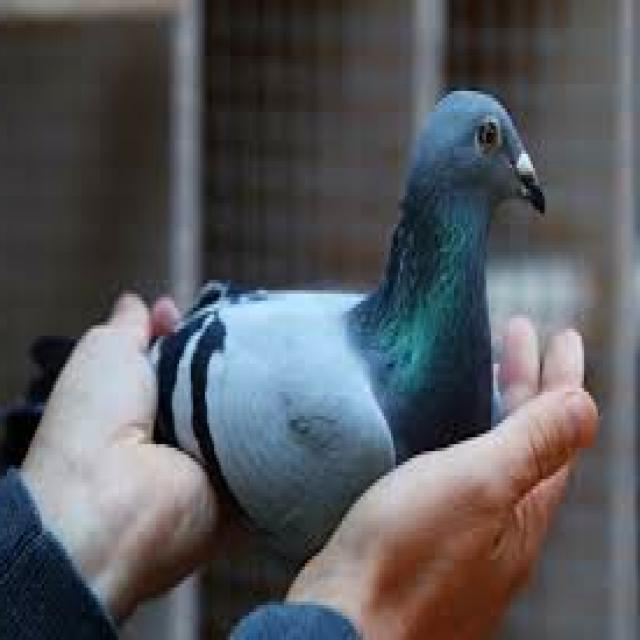pigeon: (154, 91, 545, 570)
